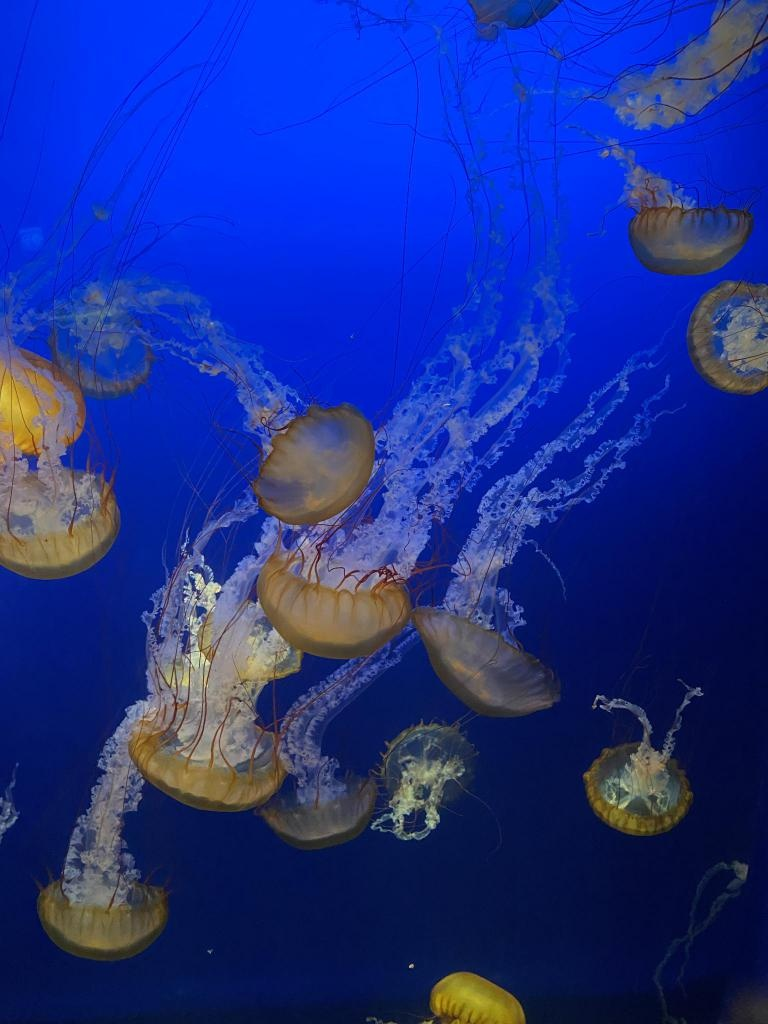jellyfish: (127, 706, 289, 812), (410, 604, 558, 718), (256, 548, 406, 660), (253, 404, 375, 526), (1, 466, 119, 582), (39, 873, 168, 961), (586, 743, 694, 835), (1, 347, 87, 461), (689, 279, 768, 397), (258, 772, 376, 850), (629, 205, 753, 277), (384, 724, 478, 810), (52, 328, 152, 400), (431, 970, 523, 1024), (465, 0, 565, 32)
